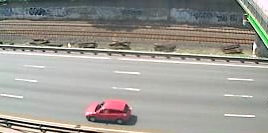car: (84, 98, 137, 125)
